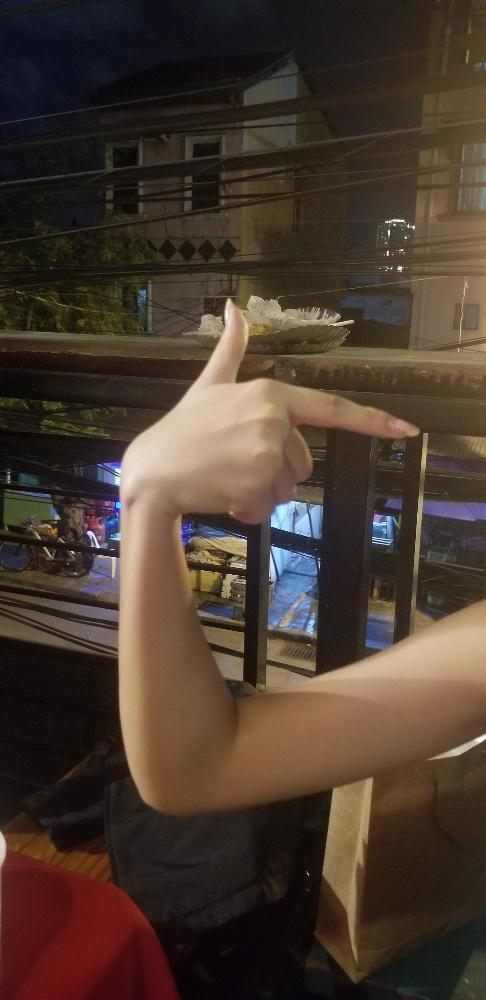g: (112, 293, 422, 526)
